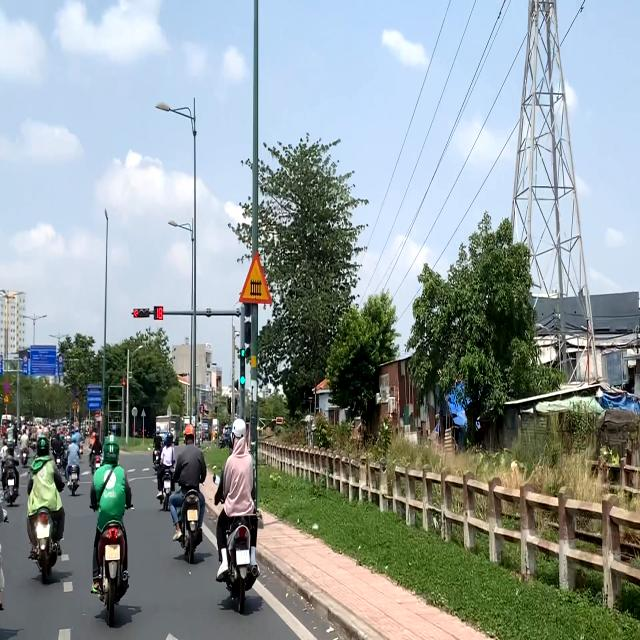W.210: (238, 248, 275, 308)
